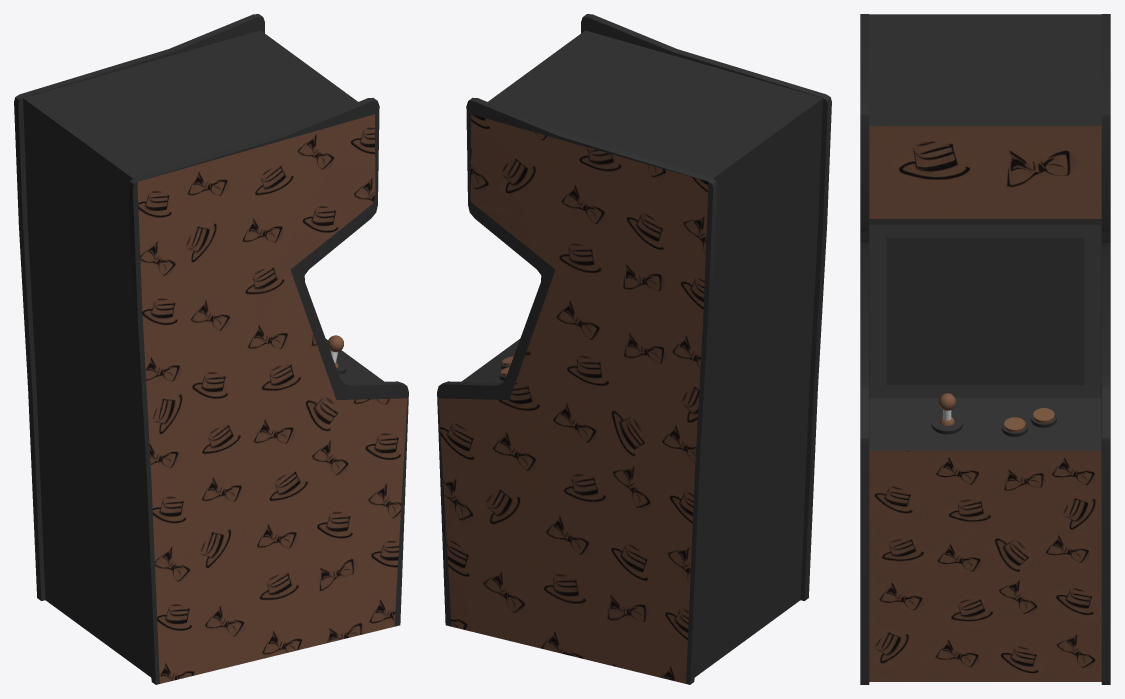
Rendered from ArcadeMachineHatAndTie.glb.
3 views of the same model, side by side, from view 1: azimuth 30°, elevation 25°; view 2: azimuth 150°, elevation 25°; view 3: azimuth 270°, elevation 25° (orthographic). The views are drawn at different scales.
Parts seen in each view (by area): view 1: ArcadeMachine; view 2: ArcadeMachine; view 3: ArcadeMachine, UnderJoystick.
Part boxes in pixels (x1,y1,x2,y2): ArcadeMachine: (14,14,408,684); ArcadeMachine: (437,14,831,684); ArcadeMachine: (860,14,1110,684); UnderJoystick: (931,412,963,434).
Bounding box in the file's own units: 3.49 × 6.42 × 2.6.
Materials: 5 (1 with a texture image).
